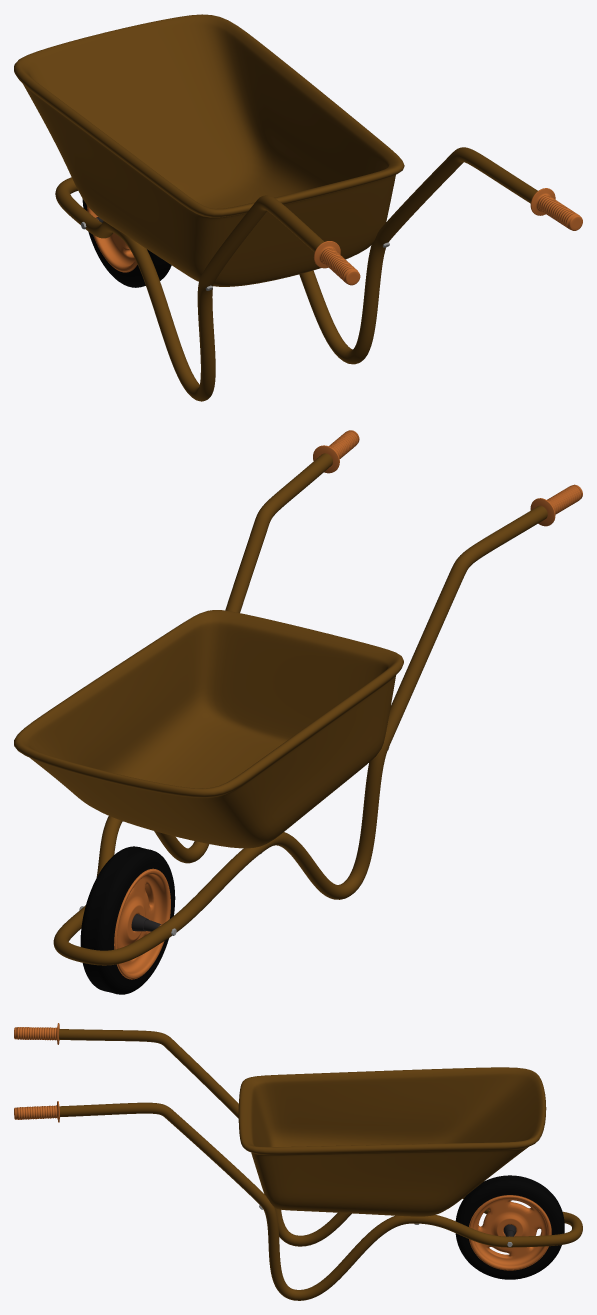
File: uploads_files_3019771_wheelborrow.fbx
3 views of the same model, one above another, from view 1: azimuth 30°, elevation 25°; view 2: azimuth 150°, elevation 25°; view 3: azimuth 270°, elevation 25° (orthographic). The views are drawn at different scales.
Parts seen in each view (by area): view 1: Trolley, Structure, Handle, Wheels; view 2: Trolley, Structure, Wheels, Handle; view 3: Trolley, Structure, Wheels, Handle.
Boxes of the visible parts, <box> form: Trolley: <box>14,14,404,286</box>; Structure: <box>55,147,537,401</box>; Handle: <box>314,188,582,285</box>; Wheels: <box>82,199,171,287</box>; Trolley: <box>14,610,403,848</box>; Structure: <box>53,453,547,965</box>; Wheels: <box>80,846,175,994</box>; Handle: <box>313,430,582,526</box>; Trolley: <box>238,1067,546,1216</box>; Structure: <box>59,1029,582,1300</box>; Wheels: <box>455,1175,564,1279</box>; Handle: <box>14,1023,59,1122</box>.
Size of the model in its own units: 225 by 259 by 623.
